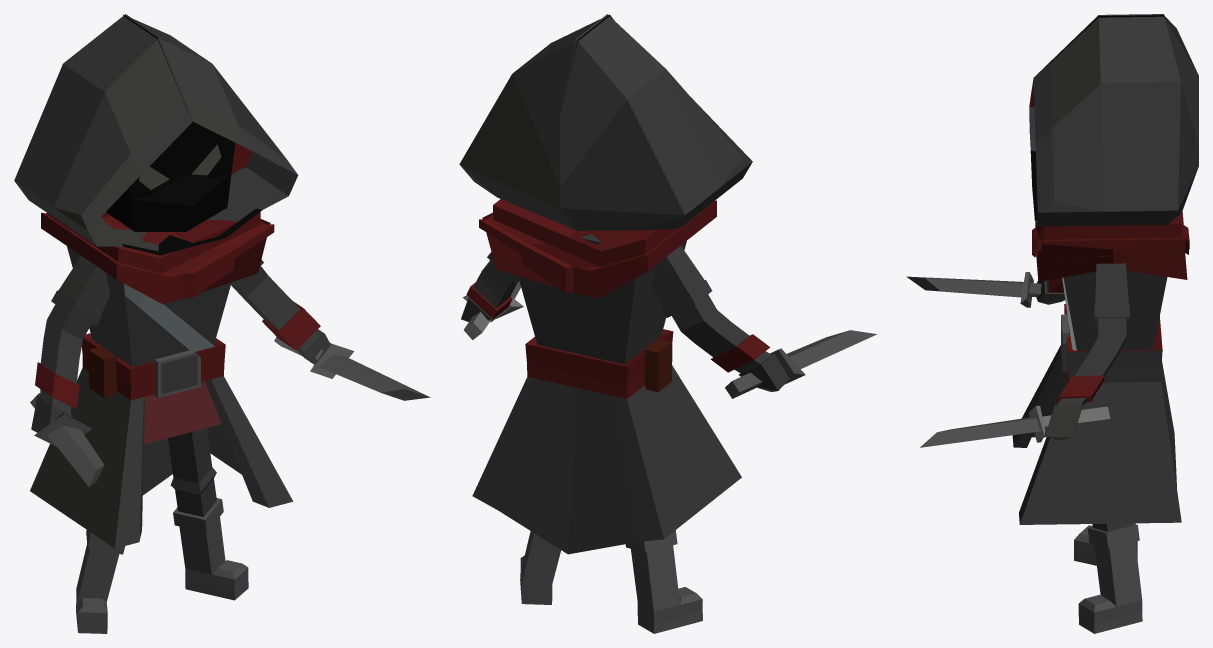
File: picaro.glb
3 views of the same model, side by side, from view 1: azimuth 30°, elevation 25°; view 2: azimuth 150°, elevation 25°; view 3: azimuth 270°, elevation 25° (orthographic). The views are drawn at different scales.
Visible parts, largest first — view 1: Cubo.048, Cube, Cubo.049, Cubo.047, Cubo.055, Cubo.052, Cubo.053, Cubo.054, Cubo.051, Cubo.050, Cubo.056, Cube.001; view 2: Cube, Cubo.048, Cubo.049, Cubo.052, Cubo.054, Cubo.050, Cubo.055, Cubo.053, Cube.001, Cubo.051; view 3: Cubo.048, Cube, Cubo.049, Cubo.053, Cubo.055, Cubo.051, Cubo.050, Cubo.054, Cubo.052.
Part boxes in pixels (left/top/right/bottom): Cubo.048: left=14, top=14, right=298, bottom=255; Cube: left=30, top=246, right=293, bottom=548; Cubo.049: left=41, top=212, right=274, bottom=304; Cubo.047: left=106, top=122, right=235, bottom=231; Cubo.055: left=168, top=428, right=248, bottom=600; Cubo.052: left=31, top=256, right=110, bottom=432; Cubo.053: left=231, top=259, right=329, bottom=364; Cubo.054: left=76, top=443, right=147, bottom=633; Cubo.051: left=274, top=337, right=430, bottom=400; Cubo.050: left=30, top=393, right=104, bottom=486; Cubo.056: left=154, top=350, right=200, bottom=397; Cube.001: left=89, top=346, right=117, bottom=398; Cube: left=472, top=234, right=741, bottom=554; Cubo.048: left=459, top=14, right=752, bottom=230; Cubo.049: left=479, top=199, right=716, bottom=298; Cubo.052: left=651, top=245, right=789, bottom=391; Cubo.054: left=625, top=530, right=702, bottom=633; Cubo.050: left=725, top=330, right=876, bottom=398; Cubo.055: left=520, top=531, right=561, bottom=604; Cubo.053: left=461, top=252, right=519, bottom=321; Cube.001: left=644, top=339, right=672, bottom=392; Cubo.051: left=462, top=281, right=523, bottom=339; Cubo.048: left=1029, top=14, right=1198, bottom=226; Cube: left=1012, top=270, right=1181, bottom=524; Cubo.049: left=1032, top=211, right=1189, bottom=281; Cubo.053: left=1045, top=247, right=1129, bottom=440; Cubo.055: left=1078, top=523, right=1142, bottom=633; Cubo.051: left=920, top=405, right=1110, bottom=447; Cubo.050: left=906, top=272, right=1065, bottom=307; Cubo.054: left=1074, top=523, right=1137, bottom=565; Cubo.052: left=1036, top=278, right=1065, bottom=304.
Bounding box in the file's own units: 2.45 × 3.85 × 1.77.
